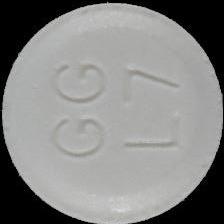67296-0674: (0, 0, 224, 224)
